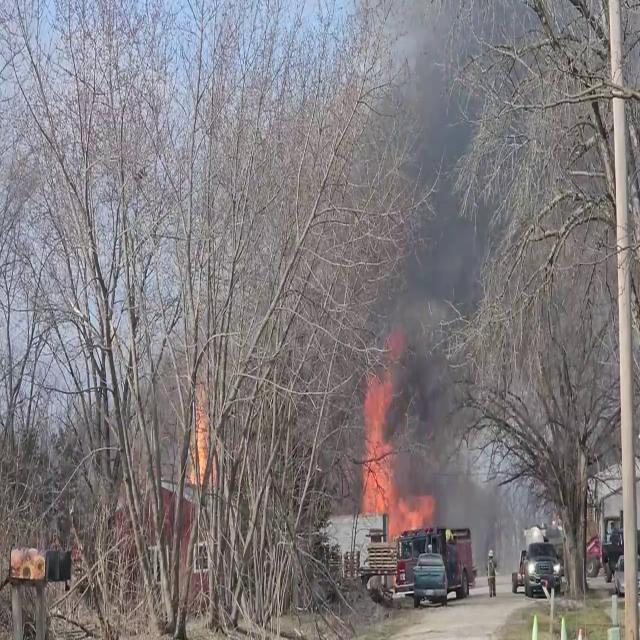Fire: (356, 360, 432, 536), (190, 381, 212, 488)
Smoke: (374, 11, 490, 509)
